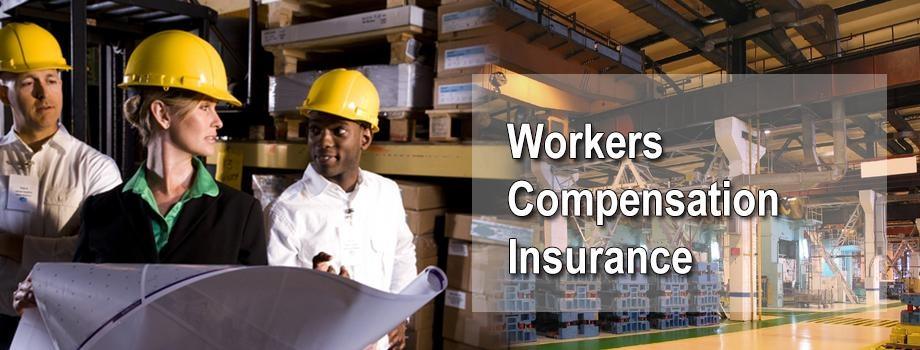yellow: (119, 31, 232, 164), (300, 68, 380, 177), (1, 21, 66, 136)
